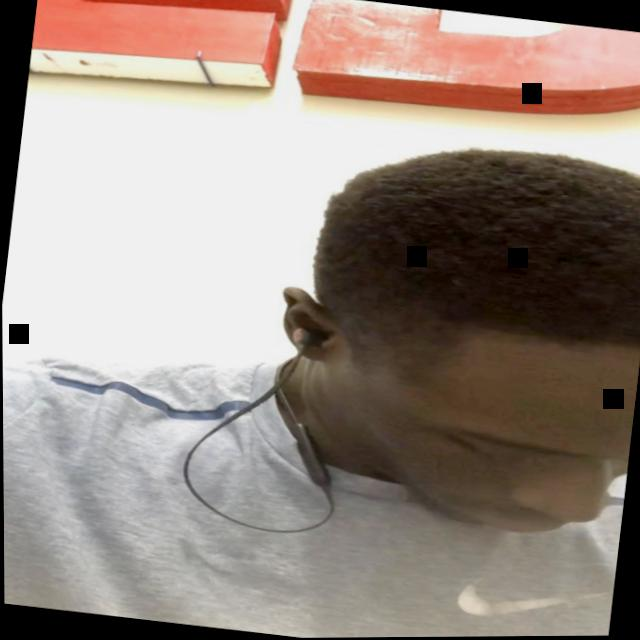NO-Mask: (278, 285, 640, 548)
